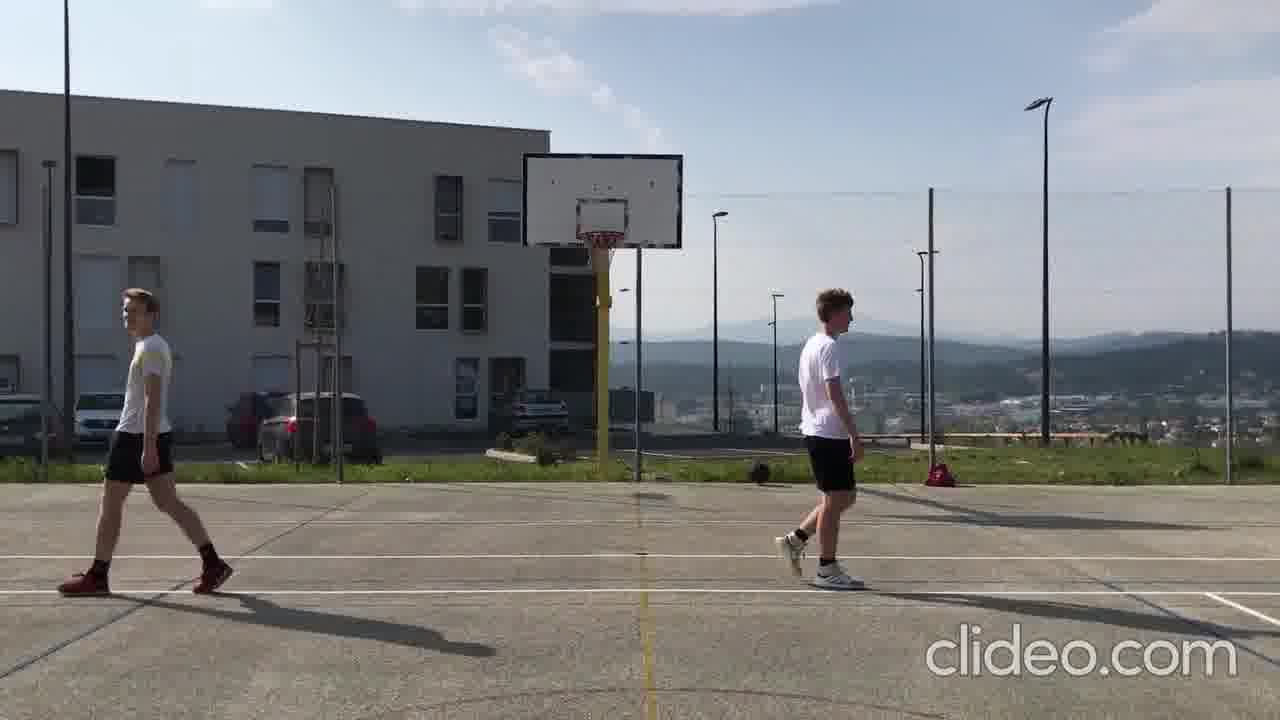jugador: (41, 271, 242, 606)
